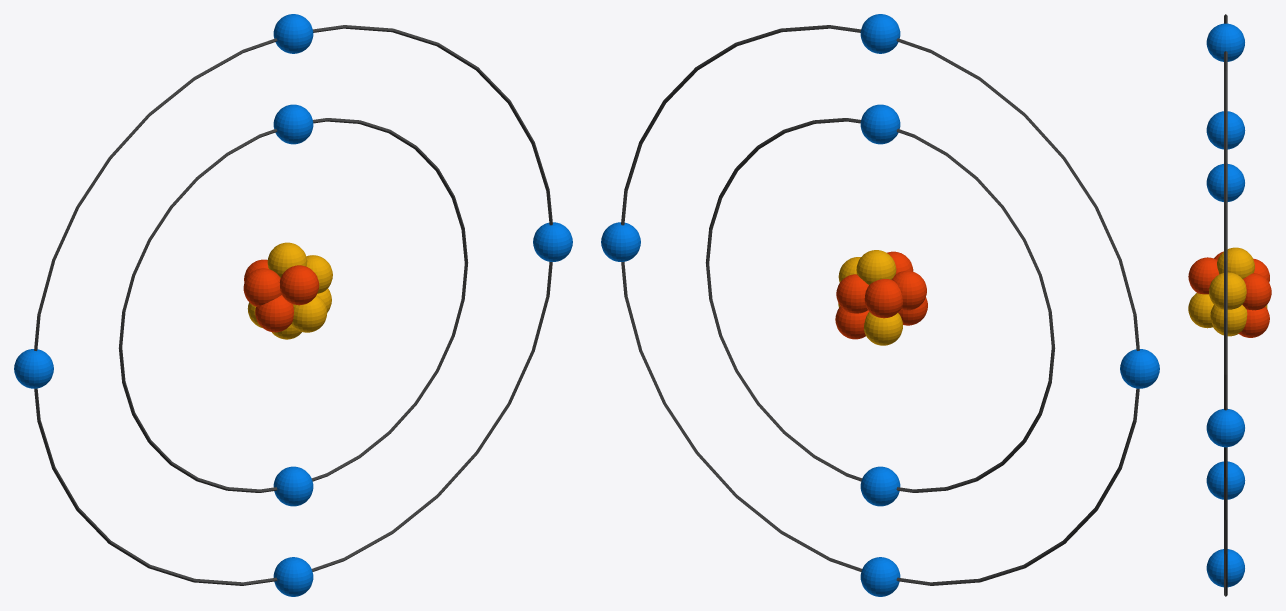
3 renders of one model, left to right at view 1: azimuth 30°, elevation 25°; view 2: azimuth 150°, elevation 25°; view 3: azimuth 270°, elevation 25°, orthographic. The views are drawn at different scales.
Visible parts, largest first — view 1: Orbit2, Orbit1, Electron, Electron.004, Electron.001, Electron.005, Electron.002, Proton.004, Electron.003, Proton.003, Proton.005, Neutron.002 (+1 smaller); view 2: Orbit2, Orbit1, Electron, Electron.004, Electron.001, Electron.005, Electron.002, Electron.003, Proton.006, Neutron.006, Neutron.003, Proton.001 (+2 smaller); view 3: Orbit2, Electron.005, Electron.002, Electron.004, Electron, Electron.001, Electron.003, Neutron.001, Proton.001, Proton.004, Neutron.006, Neutron (+3 smaller).
Part boxes in pixels (x1,y1,x2,y2): Orbit2: (34,25,552,585); Orbit1: (118,118,468,492); Electron: (273,104,313,144); Electron.004: (14,349,53,388); Electron.001: (273,466,313,506); Electron.005: (533,222,572,261); Electron.002: (273,14,313,53); Proton.004: (279,265,319,305); Electron.003: (273,557,313,596); Proton.003: (243,268,281,306); Proton.005: (255,295,293,332); Neutron.002: (291,295,327,332); Orbit2: (621,25,1139,585); Orbit1: (705,118,1055,492); Electron: (860,104,900,144); Electron.004: (1120,349,1159,388); Electron.001: (860,466,900,506); Electron.005: (601,222,640,261); Electron.002: (860,14,900,53); Electron.003: (860,557,900,596); Proton.006: (864,279,902,318); Neutron.006: (856,250,896,284); Neutron.003: (864,312,902,345); Proton.001: (836,274,868,313); Orbit2: (1224,14,1227,596); Electron.005: (1206,409,1244,447); Electron.002: (1206,23,1244,61); Electron.004: (1206,164,1244,201); Electron: (1206,111,1245,149); Electron.001: (1206,461,1245,499); Electron.003: (1206,549,1244,587); Neutron.001: (1209,272,1246,309); Proton.001: (1242,273,1271,310); Proton.004: (1188,257,1219,294); Neutron.006: (1217,247,1254,278); Neutron: (1210,305,1247,335).
Bounding box in the file's own units: 320 × 320 × 43.24.
